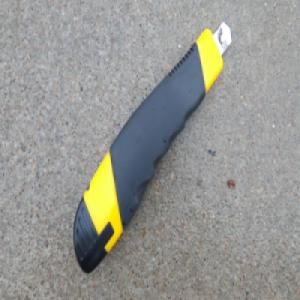Cutter: (71, 18, 233, 277)
